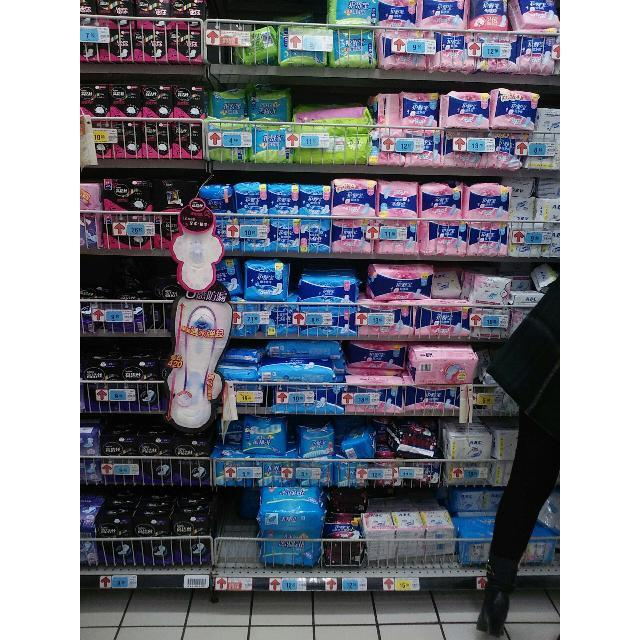empty: (217, 488, 260, 576)
